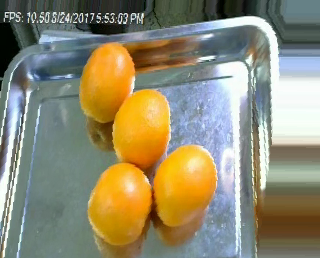Orange: (86, 163, 152, 246), (153, 143, 218, 226), (112, 88, 172, 169), (79, 42, 135, 122)
